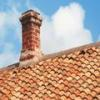chimneys: (18, 9, 42, 67)
